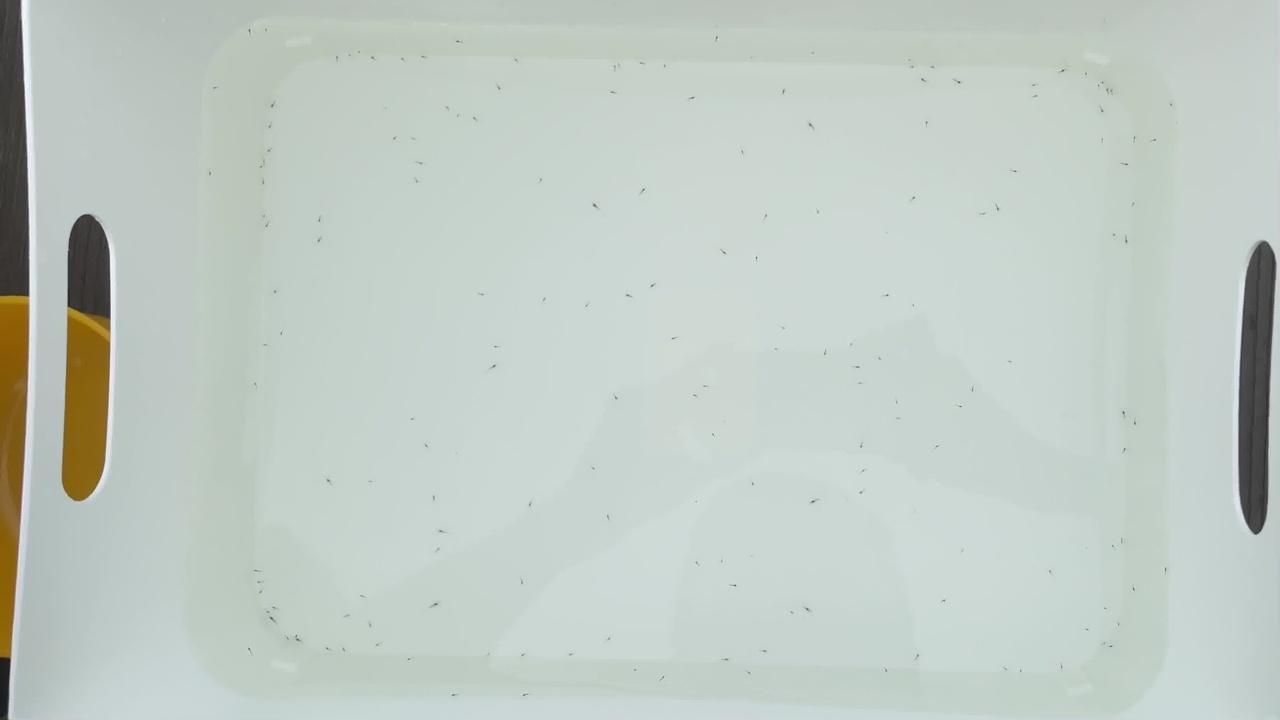shrimp: (904, 57, 917, 65), (924, 63, 937, 71), (1095, 107, 1108, 115), (1118, 163, 1131, 171), (1121, 234, 1134, 242), (1117, 450, 1130, 458), (1100, 606, 1113, 614), (1080, 628, 1093, 636), (998, 666, 1011, 674), (878, 666, 891, 674), (846, 340, 859, 348), (716, 656, 729, 664), (769, 345, 782, 353), (777, 323, 790, 331), (760, 212, 773, 220), (510, 58, 523, 66), (491, 85, 504, 93), (264, 124, 277, 132), (313, 218, 326, 226), (260, 224, 273, 232), (257, 212, 270, 220), (248, 379, 261, 387), (259, 606, 272, 614), (403, 656, 416, 664), (628, 667, 641, 675), (420, 445, 433, 453), (477, 290, 490, 298), (587, 202, 600, 210), (636, 190, 649, 198), (536, 295, 549, 303), (978, 213, 990, 221), (1105, 645, 1117, 653), (873, 356, 885, 364), (418, 52, 430, 60), (346, 52, 358, 60), (524, 500, 536, 508), (990, 206, 1003, 213), (906, 196, 919, 203), (1009, 166, 1022, 173), (921, 121, 934, 128), (917, 77, 930, 84), (906, 66, 919, 73), (952, 79, 965, 86), (1028, 82, 1041, 89), (1030, 93, 1043, 100), (1080, 71, 1093, 78), (1099, 79, 1112, 86), (1099, 88, 1112, 95), (1096, 137, 1109, 144), (1128, 135, 1141, 142), (1148, 136, 1161, 143), (1125, 200, 1138, 207), (1110, 231, 1123, 238), (1130, 424, 1143, 431), (1117, 536, 1130, 543), (1106, 542, 1119, 549), (1160, 567, 1173, 574), (1111, 621, 1124, 628), (1099, 642, 1112, 649), (1046, 572, 1059, 579), (1054, 663, 1067, 670), (1015, 668, 1028, 675), (940, 599, 953, 606), (957, 548, 970, 555), (930, 443, 943, 450), (966, 389, 979, 396), (880, 293, 893, 300), (852, 380, 865, 387), (820, 349, 833, 356), (889, 397, 902, 404), (891, 417, 904, 424), (853, 491, 866, 498), (810, 498, 823, 505), (800, 610, 813, 617), (786, 611, 799, 618), (744, 668, 757, 675), (729, 581, 742, 588), (691, 559, 704, 566), (748, 479, 761, 486), (708, 430, 721, 437), (689, 393, 702, 400), (699, 386, 712, 393), (667, 336, 680, 343), (708, 34, 721, 41), (809, 49, 822, 56), (803, 122, 816, 129), (811, 210, 824, 217), (737, 148, 750, 155), (688, 94, 701, 101), (659, 60, 672, 67), (615, 62, 628, 69), (611, 65, 624, 72), (452, 37, 465, 44), (397, 57, 410, 64), (366, 54, 379, 61), (354, 48, 367, 55), (331, 55, 344, 62), (259, 29, 272, 36), (245, 29, 258, 36), (210, 84, 223, 91), (204, 173, 217, 180), (256, 162, 269, 169), (386, 136, 399, 143), (381, 105, 394, 112), (408, 135, 421, 142), (414, 159, 427, 166), (409, 177, 422, 184), (469, 114, 482, 121), (453, 111, 466, 118), (439, 104, 452, 111), (317, 240, 330, 247), (268, 288, 281, 295), (276, 327, 289, 334), (257, 343, 270, 350), (322, 478, 335, 485), (250, 570, 263, 577), (253, 581, 266, 588), (253, 588, 266, 595), (267, 606, 280, 613), (282, 637, 295, 644), (291, 635, 304, 642), (323, 647, 336, 654), (340, 612, 353, 619), (355, 592, 368, 599), (364, 619, 377, 626), (371, 641, 384, 648), (450, 692, 463, 699), (518, 692, 531, 699), (481, 650, 494, 657), (563, 653, 576, 660), (428, 602, 441, 609), (430, 546, 443, 553), (364, 478, 377, 485), (436, 529, 449, 536), (406, 415, 419, 422), (516, 579, 529, 586), (602, 517, 615, 524), (587, 463, 600, 470), (609, 394, 622, 401), (489, 363, 502, 370), (489, 344, 502, 351), (534, 177, 547, 184), (647, 280, 660, 287), (582, 300, 595, 307), (689, 499, 702, 506), (1056, 68, 1068, 75), (1094, 81, 1106, 88), (1105, 86, 1117, 93), (1166, 105, 1178, 112), (1116, 412, 1128, 419), (1128, 588, 1140, 595), (911, 655, 923, 662), (956, 404, 968, 411), (1005, 360, 1017, 367), (851, 366, 863, 373), (856, 443, 868, 450), (856, 468, 868, 475), (757, 649, 769, 656), (718, 555, 730, 562), (779, 87, 791, 94), (751, 253, 763, 260), (718, 248, 730, 255), (634, 61, 646, 68), (607, 88, 619, 95), (258, 176, 270, 183), (258, 156, 270, 163), (264, 143, 276, 150), (269, 103, 281, 110), (264, 615, 276, 622), (241, 647, 253, 654), (336, 646, 348, 653), (518, 652, 530, 659), (601, 636, 613, 643), (657, 676, 669, 683), (429, 495, 441, 502), (623, 292, 635, 299)
